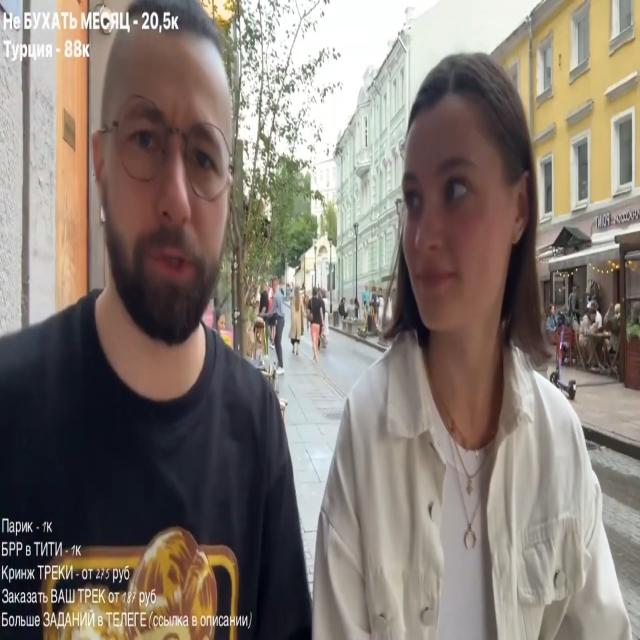Person: (303, 45, 629, 637), (0, 27, 302, 627), (260, 276, 288, 372), (306, 286, 328, 361), (577, 309, 598, 372)
